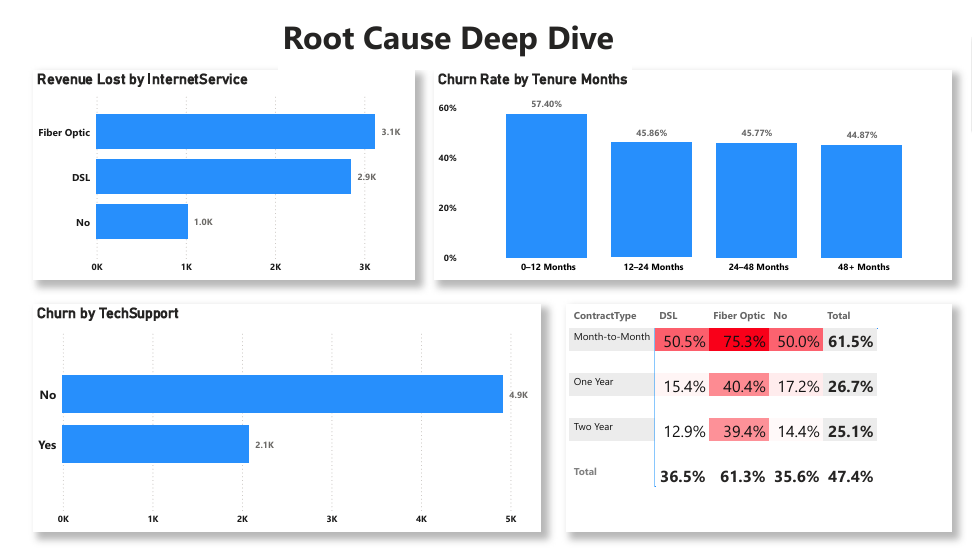

The page's visual inventory and layout, read from the dashboard file:
{"tool":"powerbi","page":{"name":"Page 2","canvas":[1280,720],"ordinal":1},"visuals":[{"type":"clusteredBarChart","title":"Revenue Lost by InternetService","fields":{"Category":["telecom_customer_churn_dataset.InternetService"],"Y":["CountNonNull(telecom_customer_churn_dataset.Churn)"]},"box":[28.6,79,509,280.5],"z":0},{"type":"clusteredBarChart","title":"Churn by TechSupport","fields":{"Y":["CountNonNull(telecom_customer_churn_dataset.Churn)"],"Category":["telecom_customer_churn_dataset.TechSupport"]},"box":[28.6,391.4,677,304],"z":1},{"type":"columnChart","title":"Churn Rate by Tenure Months","fields":{"Y":["telecom_customer_churn_dataset.Churn_Rate(%)"],"Category":["telecom_customer_churn_dataset.Tenure Bucket"]},"box":[562.7,79,690.4,280.5],"z":2},{"type":"pivotTable","fields":{"Rows":["telecom_customer_churn_dataset.ContractType"],"Columns":["telecom_customer_churn_dataset.InternetService"],"Values":["telecom_customer_churn_dataset.Churn_Rate(%)"]},"box":[739.1,391.4,514,304],"z":3},{"type":"textbox","box":[356.1,0,472,79],"z":4}]}

Visuals, with their boxes in screenshot pixels (x1, y1, x2, y2), scaled from the page's 1280x720 canvas onto the 978x558 screenshot:
"Revenue Lost by InternetService" clusteredBarChart: 22, 61, 411, 279
"Churn by TechSupport" clusteredBarChart: 22, 303, 539, 539
"Churn Rate by Tenure Months" columnChart: 430, 61, 957, 279
pivotTable - telecom_customer_churn_dataset.ContractType x telecom_customer_churn_dataset.InternetService: 565, 303, 957, 539
textbox: 272, 0, 633, 61
